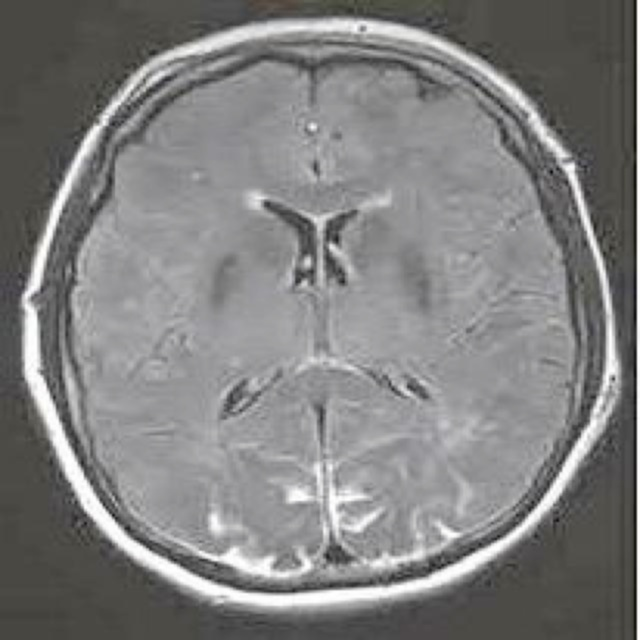glioma tumor: (121, 92, 485, 540)
